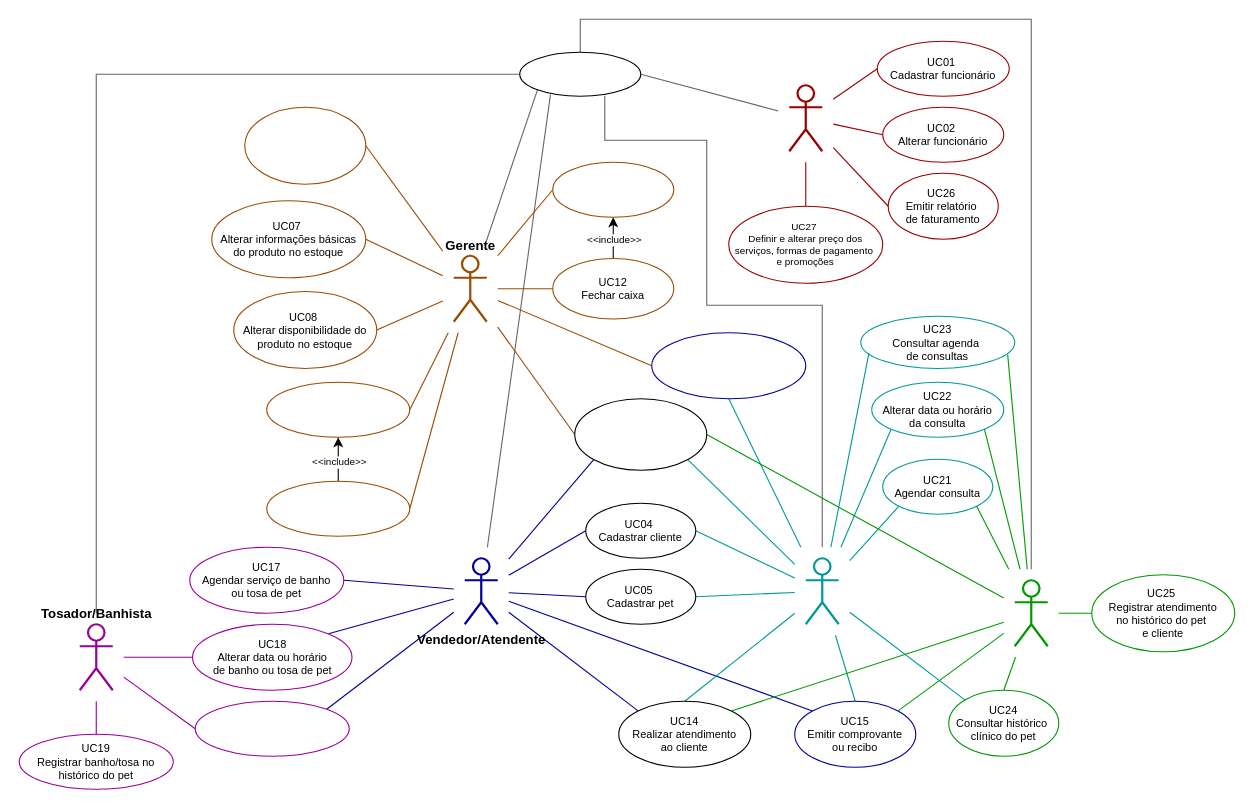
Image size: 1254x809. Some labels were removed from this diagram. The shapes that lost their labels are listed below. From the top down, each one's centre as x and y in pixels, then its label:
(580,73): UC03 Login de usuário
(805,118): Administrador
(305,145): UC06 Cadastrar produto no estoque
(613,189): UC11 Abrir caixa
(728,365): UC16 Emitir relatório de vendas e serviços do dia
(338,409): UC09 Cadastrar fornecedor
(640,434): UC13 Consultar estoque disponível
(338,508): UC10 Remover fornecedor
(821,591): Secretária/Enfermeira
(1030,613): Veterinário
(271,728): UC20 Consultar agenda de banho ou tosa dos pets
